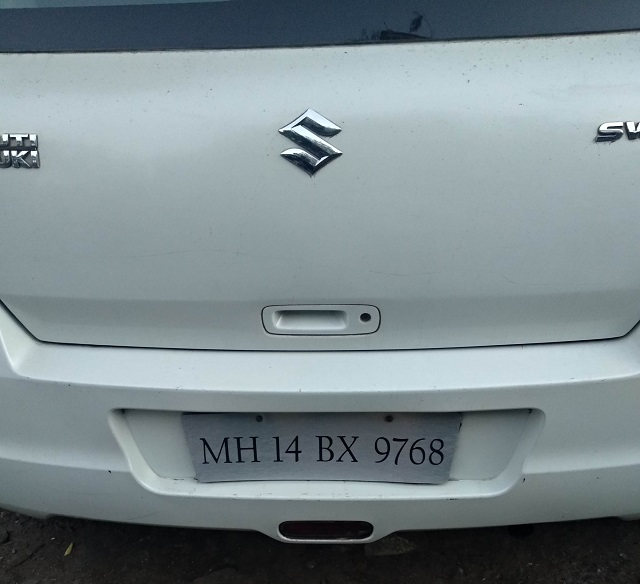licenseplate: (179, 406, 462, 496)
